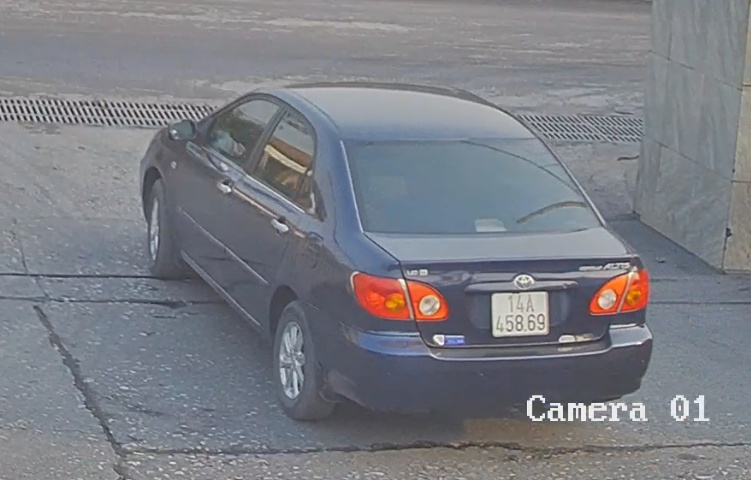vehicle plate: (489, 288, 557, 336)
